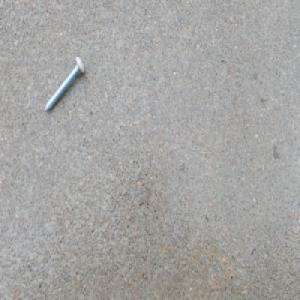Nail: (42, 55, 85, 114)
